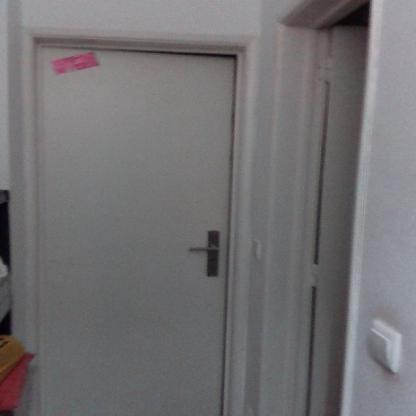door: (36, 44, 228, 416)
lever: (184, 244, 220, 254)
